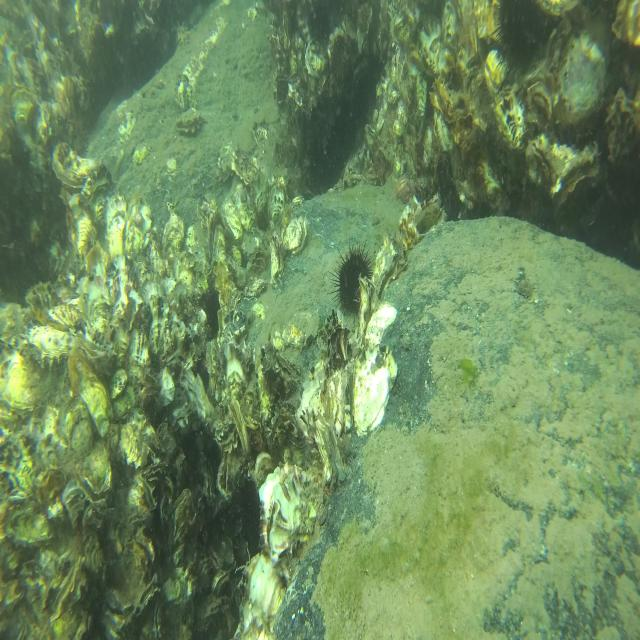echinus: (494, 0, 541, 76), (330, 240, 374, 321), (198, 285, 220, 330)
holothurian: (173, 23, 192, 45)
